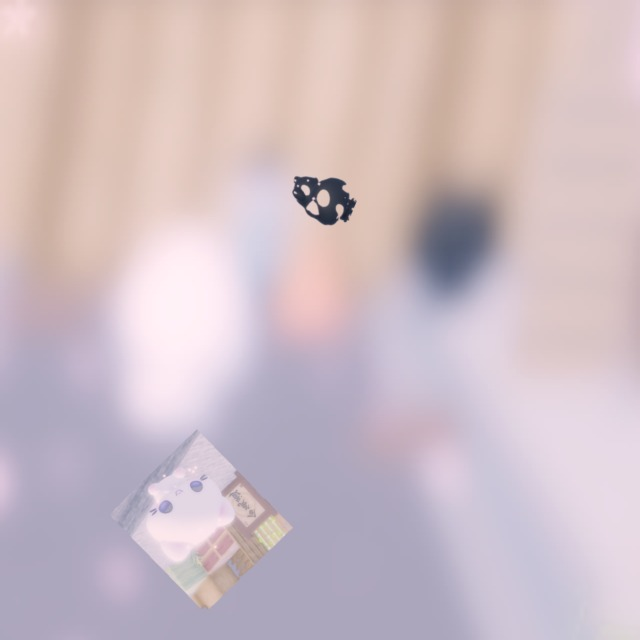urso_branco: (109, 429, 293, 613)
urso_preto: (277, 157, 364, 235)
